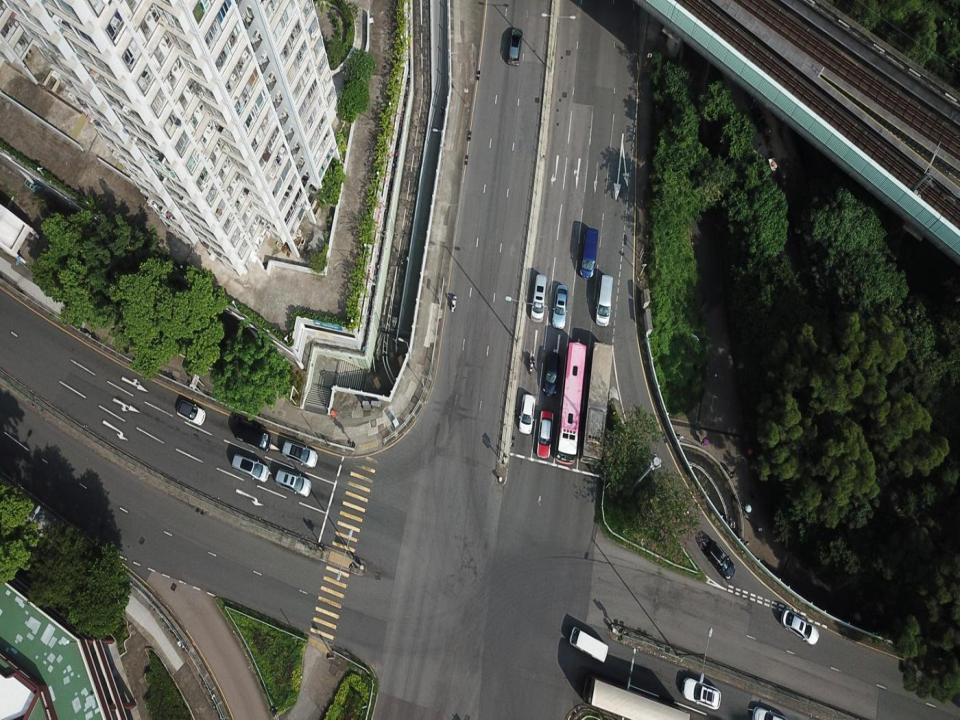bus: (582, 673, 691, 719), (579, 341, 613, 466), (555, 341, 587, 465)
car: (780, 608, 820, 646), (682, 676, 722, 711), (704, 539, 736, 579), (234, 419, 271, 452), (231, 454, 269, 484), (281, 438, 318, 468), (274, 468, 312, 497), (529, 272, 548, 323), (536, 409, 554, 459), (542, 350, 560, 396), (176, 399, 206, 426), (552, 283, 569, 329), (518, 393, 536, 435), (506, 26, 523, 66)
van: (568, 626, 609, 663), (594, 273, 614, 327), (579, 226, 599, 278)
